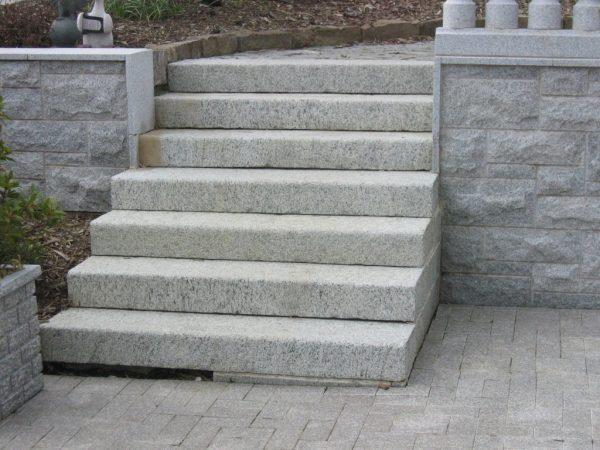upstairs: (171, 61, 402, 402)
